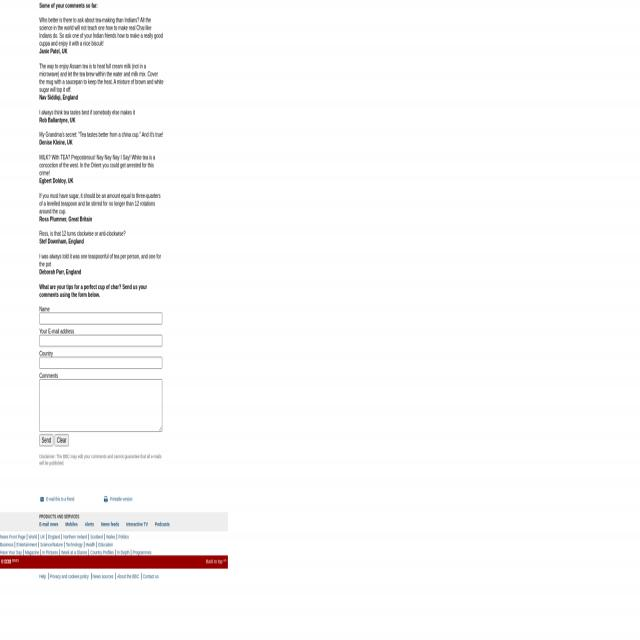button: (55, 434, 69, 446), (39, 434, 53, 446)
field: (40, 380, 162, 432), (39, 357, 162, 369), (39, 313, 162, 324), (39, 335, 162, 346)
